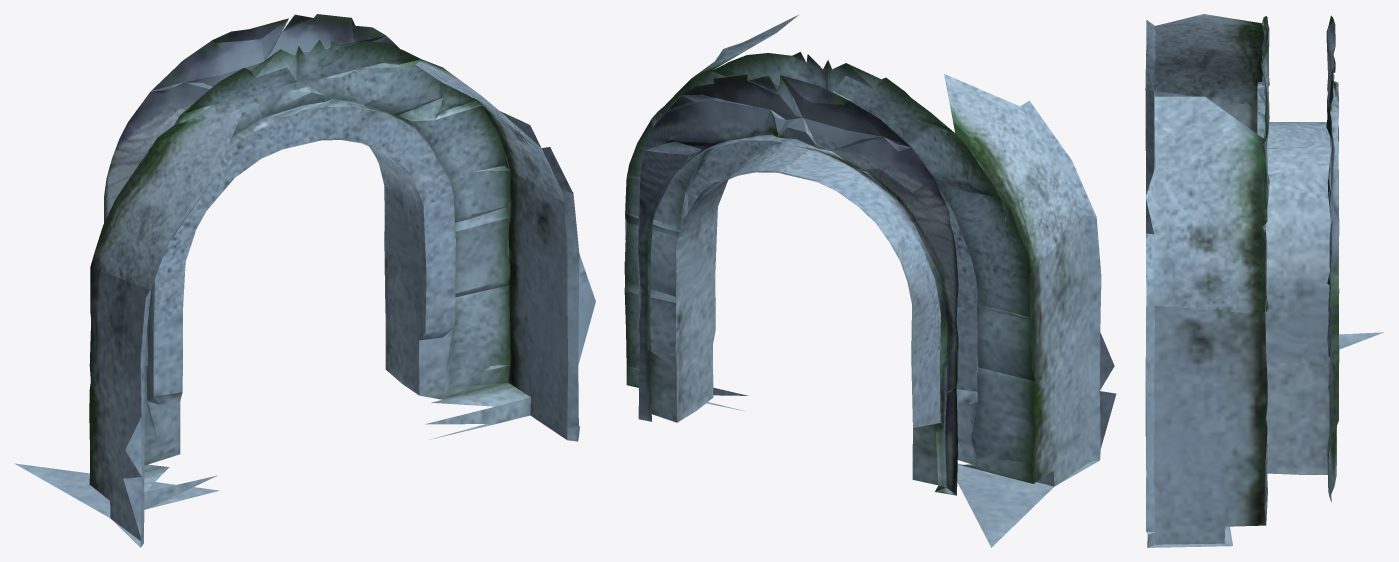
Rendered from arch.glb.
3 renders of one model, left to right at view 1: azimuth 30°, elevation 25°; view 2: azimuth 150°, elevation 25°; view 3: azimuth 270°, elevation 25°, orthographic. The views are drawn at different scales.
Bounding box in the file's own units: 0.9006 × 0.7409 × 0.397.
Materials: 1 (1 with a texture image).
